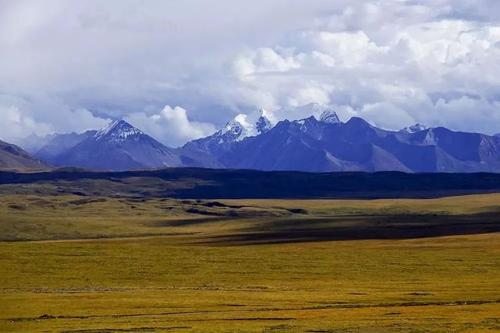mountain: (21, 105, 498, 181)
sea_river: (17, 224, 481, 320)
sky_cloud: (18, 22, 500, 117)
